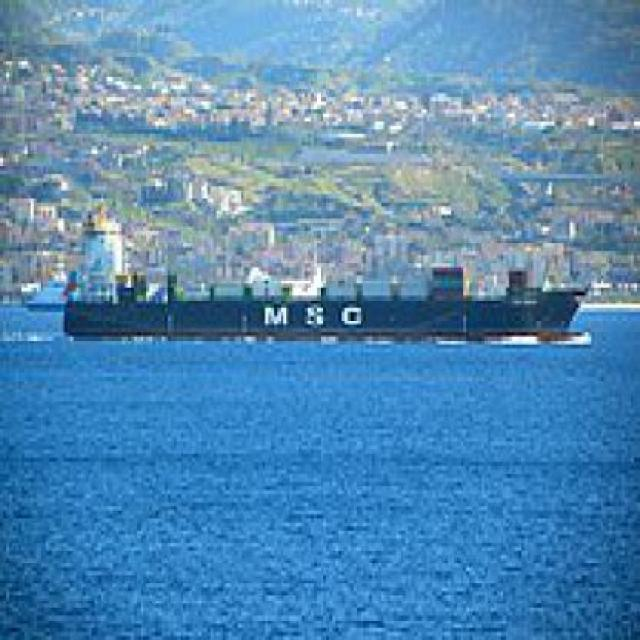container: (56, 244, 596, 353)
